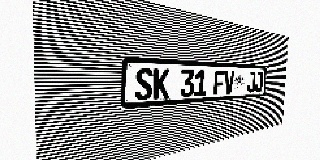1: (194, 70, 207, 96)
3: (180, 69, 194, 97)
F: (214, 70, 225, 95)
J: (247, 71, 256, 93), (255, 72, 263, 92)
K: (153, 68, 170, 99)
S: (135, 68, 153, 101)
V: (224, 71, 234, 94)
